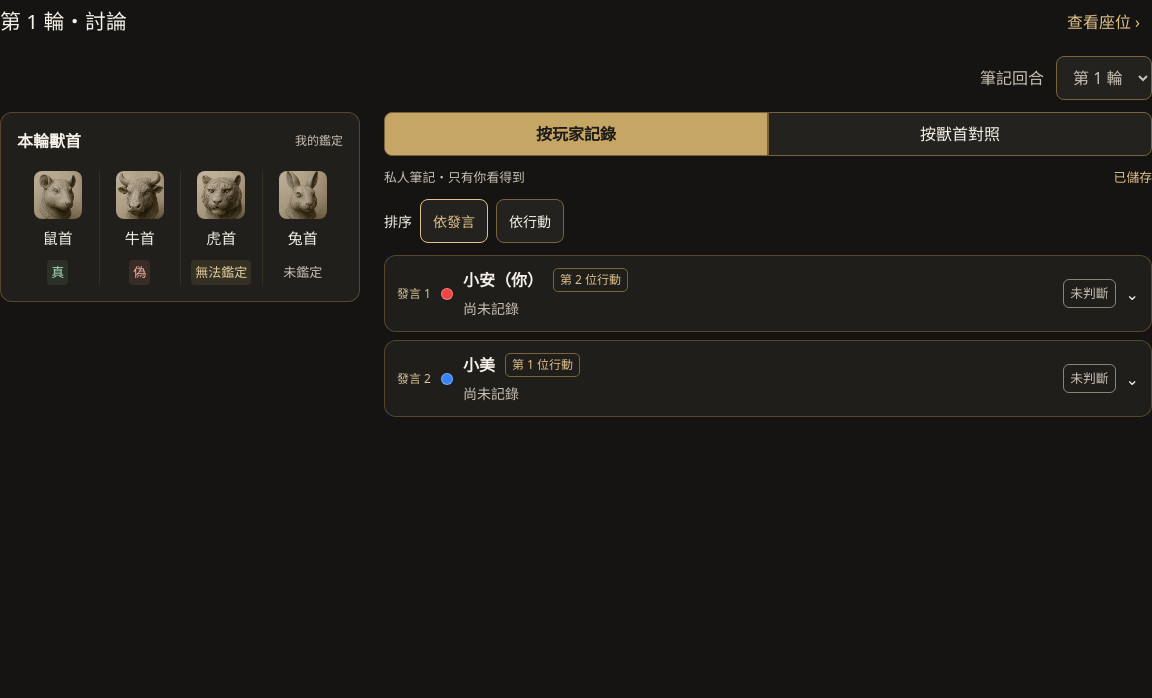
Scenario: shows both positions, edits privately, and keeps the claim when switching views and sort
Expected: the text "私人筆記・只有你看得到" is shown, [384, 168, 525, 187]
Click the button "發言 1 小安（你） 第 2 位行動 尚未記錄 未判斷 ⌄" at (414, 293), box [385, 256, 1151, 331]
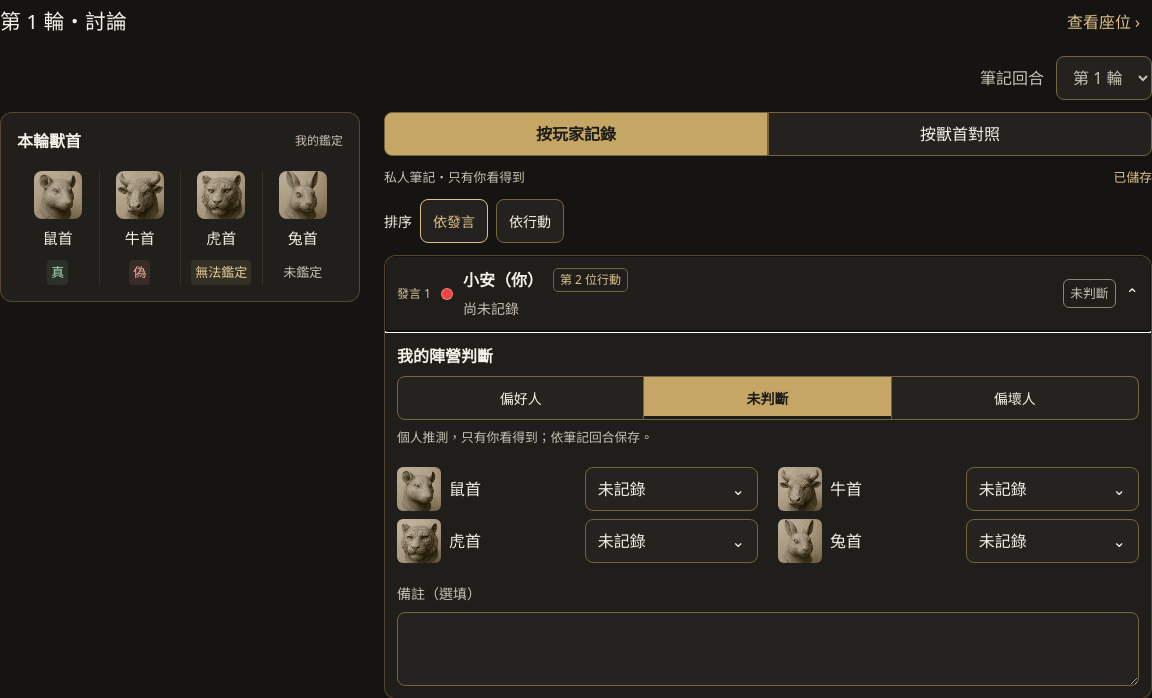
Expected: the text "第 2 位行動" is shown, [553, 268, 628, 292]
Click the button with aria-label "記錄小安的鼠首說法" at (671, 489), box [585, 467, 758, 511]
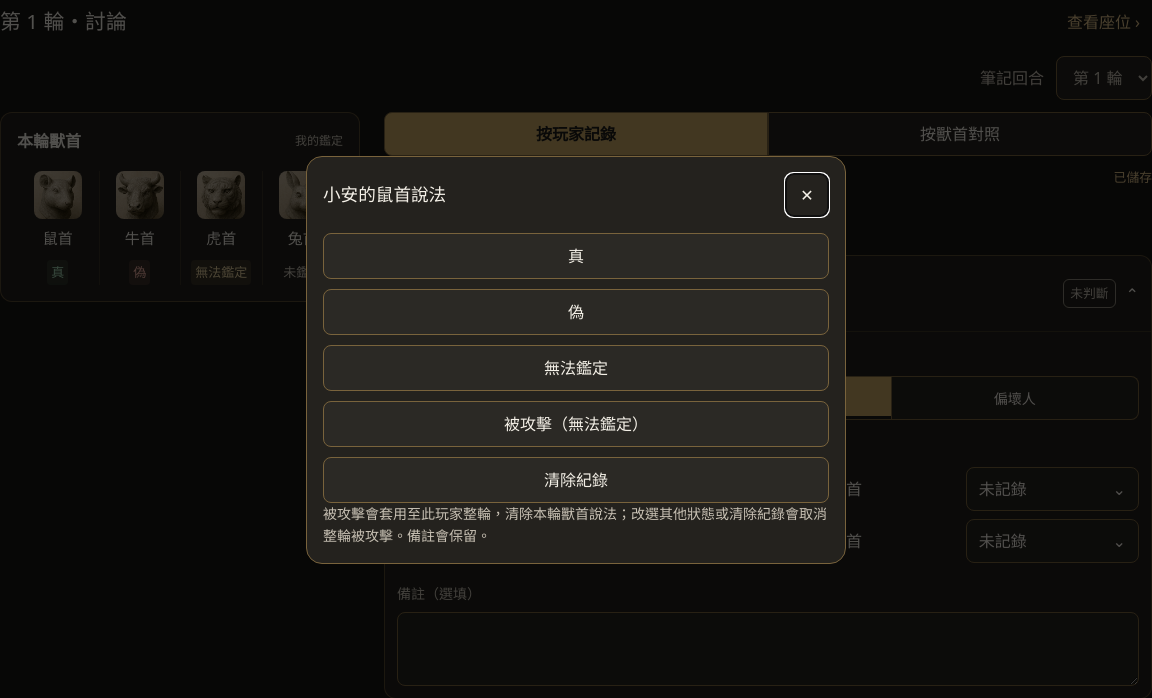
Click the button "偽" at (576, 312), box [323, 289, 829, 335]
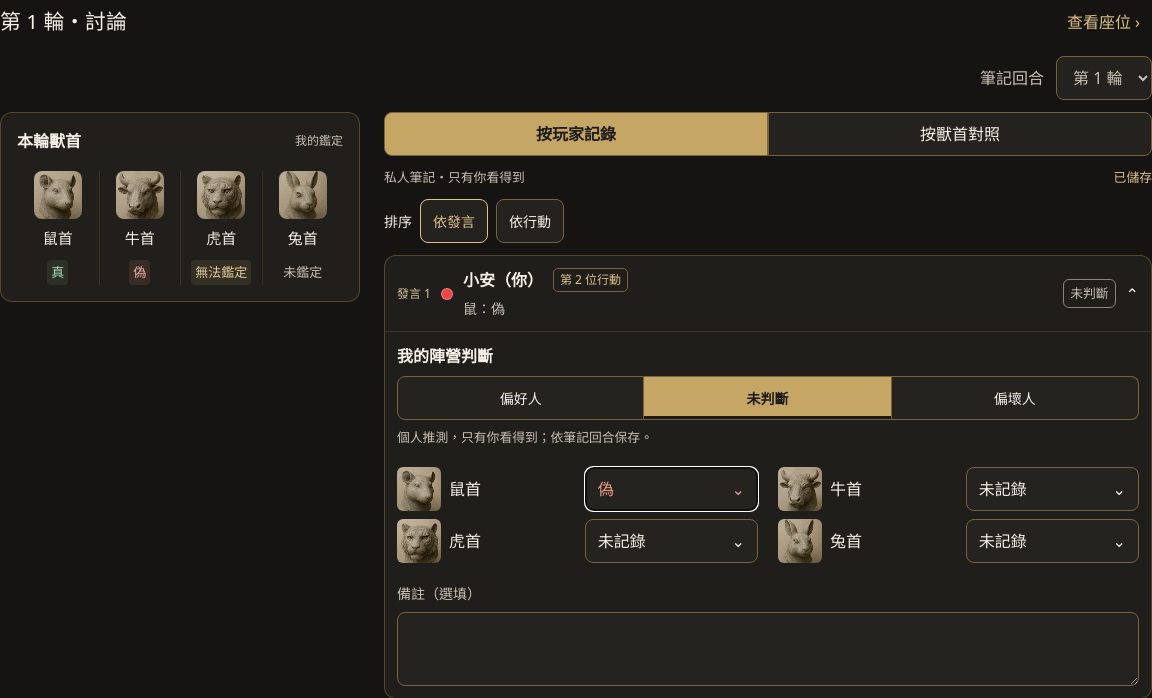
Click the button "依行動" at (530, 221), box [496, 199, 564, 243]
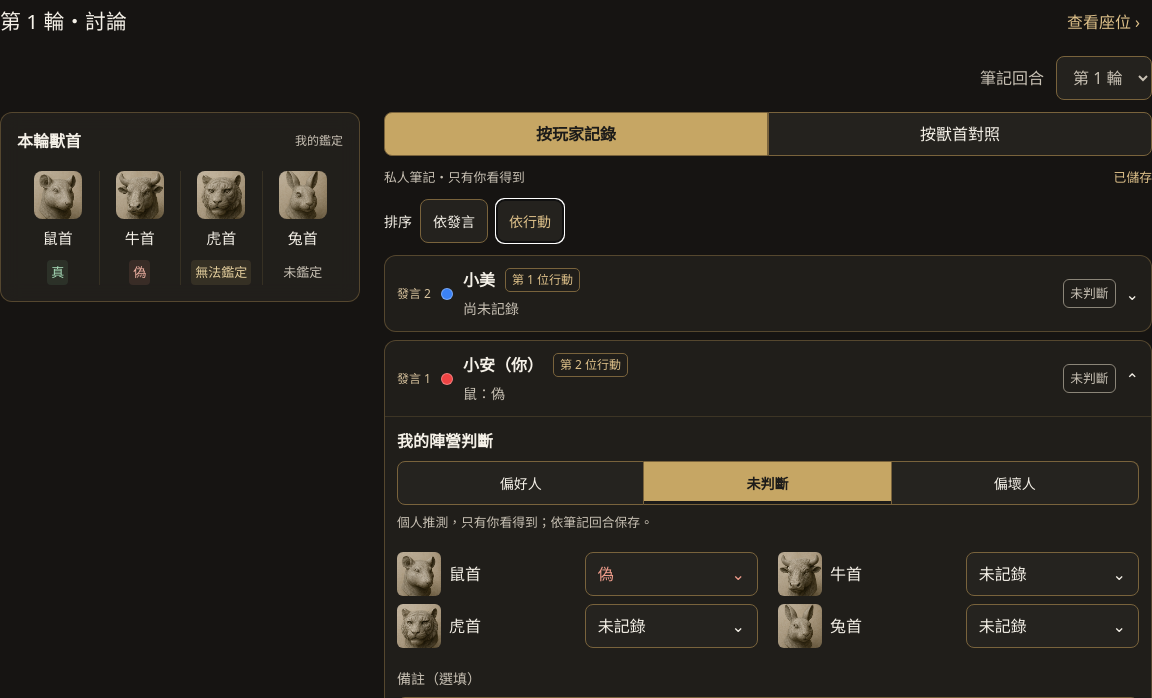
Expected: the button "發言 2 小美 第 1 位行動 尚未記錄 未判斷 ⌄" is shown, [385, 256, 1151, 331]
Result: the button named "記錄小安的鼠首說法" is shown at [585, 552, 758, 596]
Click the button "按獸首對照" at (960, 134), box [768, 112, 1151, 156]
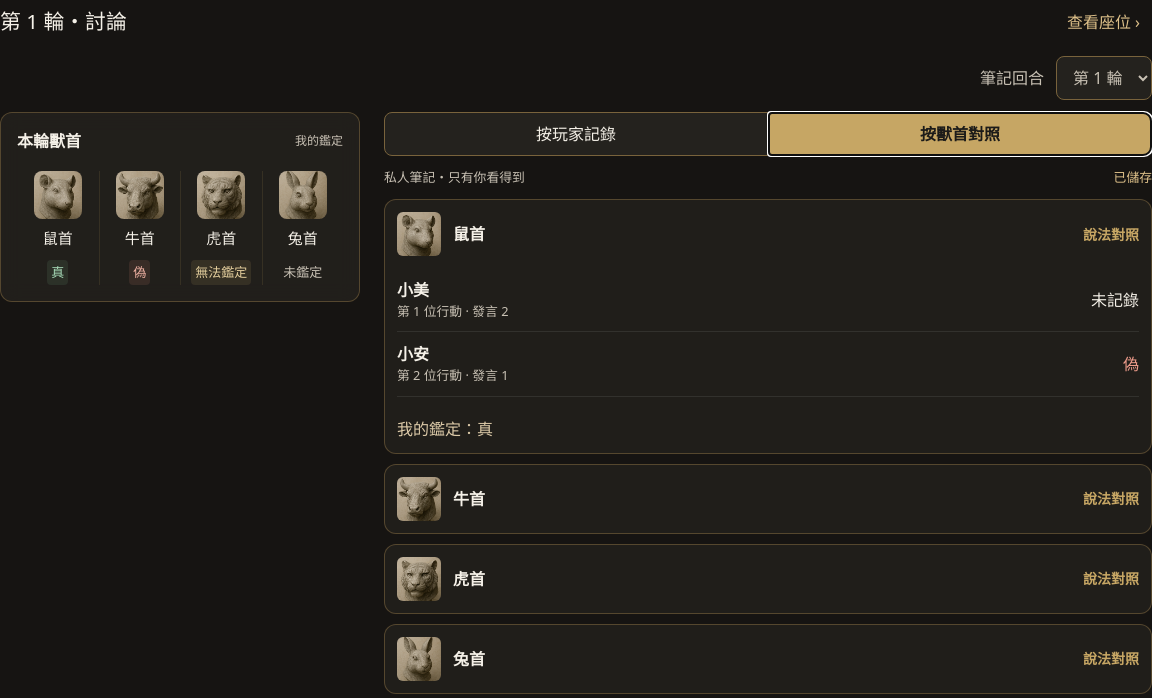
Result: the text "偽" in the row of "小安" is shown at [1123, 353, 1139, 375]
Result: the text "我的鑑定：真" is shown at [397, 418, 493, 440]
